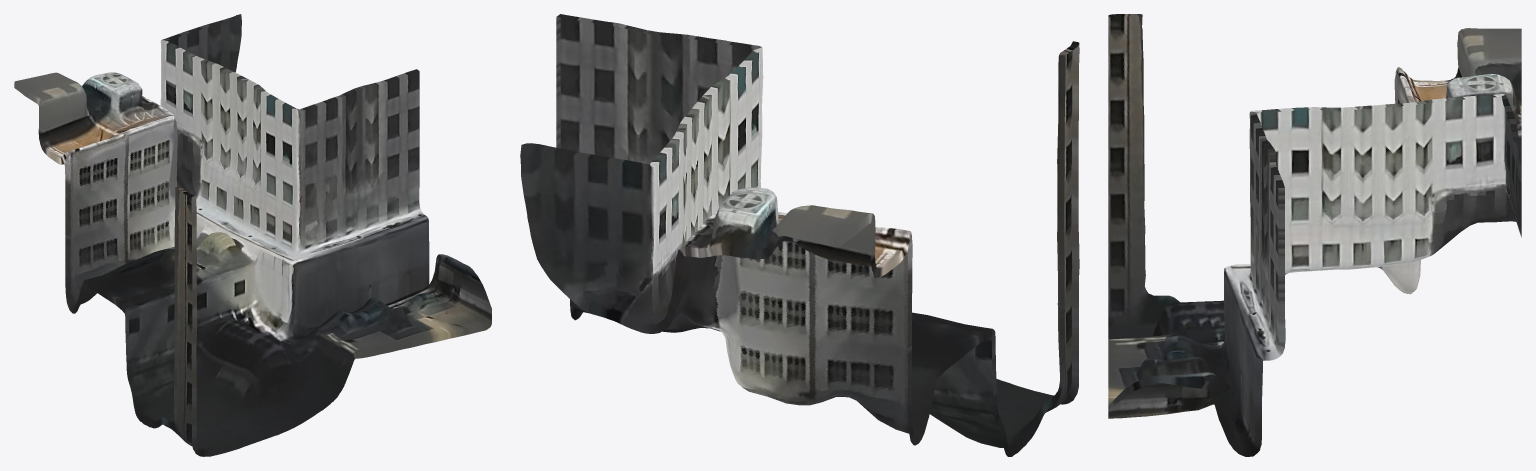
File: z20-167771-405234-h0-yup-uvflip-v3-world.glb
3 views of the same model, side by side, from view 1: azimuth 30°, elevation 25°; view 2: azimuth 150°, elevation 25°; view 3: azimuth 270°, elevation 25° (orthographic). The views are drawn at different scales.
Bounding box in the file's own units: 30.2 × 25.2 × 30.32.
Materials: 1 (1 with a texture image).
